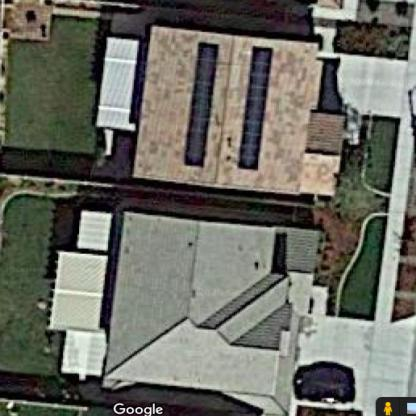car: (292, 361, 358, 403)
solar_panel: (229, 40, 279, 173), (182, 33, 221, 178)
